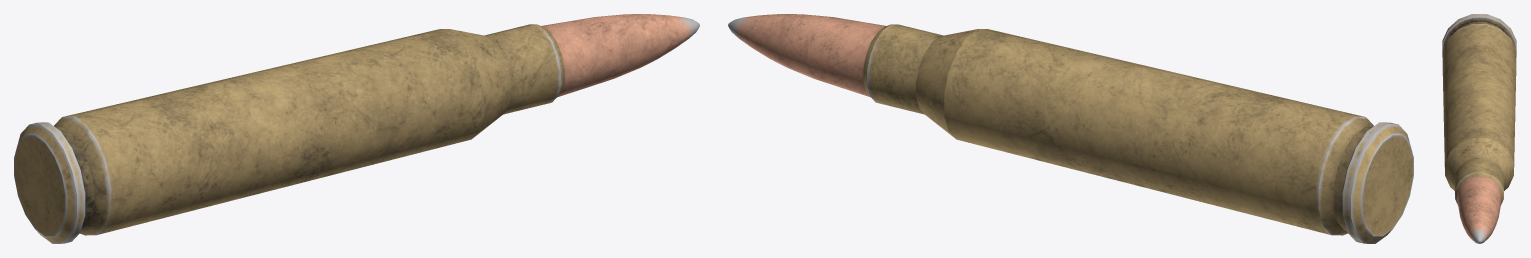
The model's file is SM_Ammo_556x45.fbx.
The picture shows the model from 3 angles, left to right: view 1: azimuth 30°, elevation 25°; view 2: azimuth 150°, elevation 25°; view 3: azimuth 270°, elevation 25°; orthographic projection. The views are drawn at different scales.
Parts seen in each view (by area): view 1: SM_Ammo_556x45_LOD0; view 2: SM_Ammo_556x45_LOD0; view 3: SM_Ammo_556x45_LOD0.
Part boxes in pixels (<box>): SM_Ammo_556x45_LOD0: <box>14,14,699,243</box>; SM_Ammo_556x45_LOD0: <box>728,14,1413,243</box>; SM_Ammo_556x45_LOD0: <box>1442,14,1516,243</box>.
Size of the model in its own units: 5.67 by 0.9107 by 0.9107.
